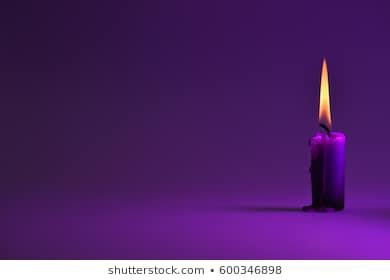fire: (315, 53, 332, 129)
